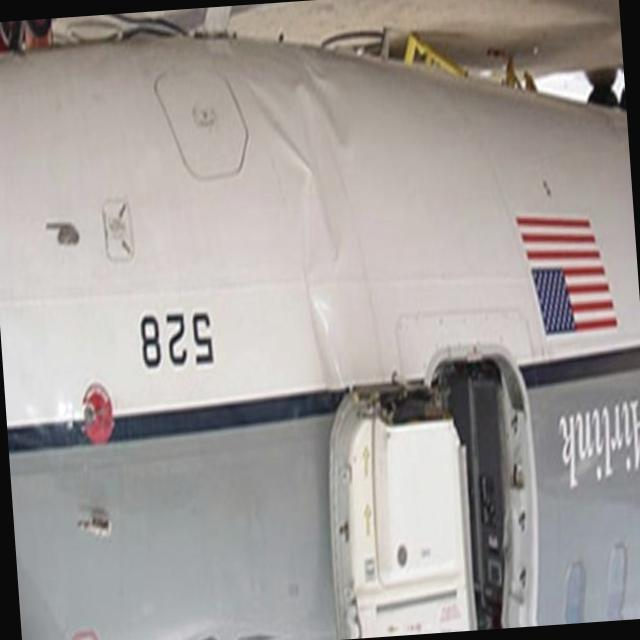dent: (244, 46, 354, 180)
